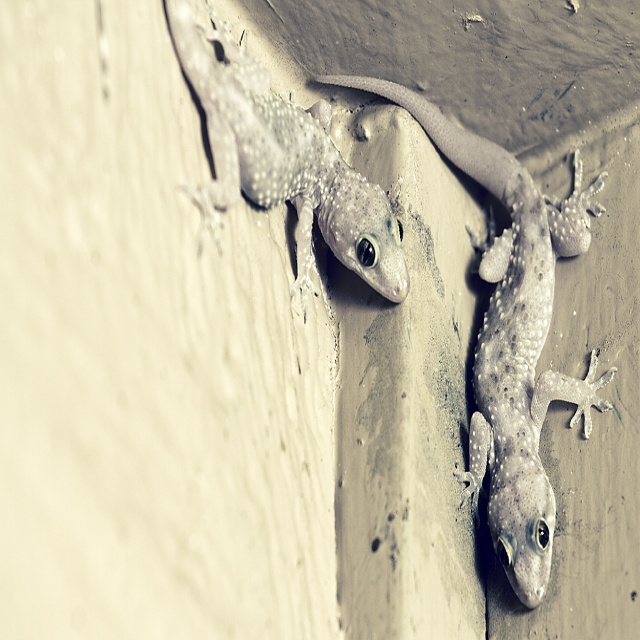Lizard: (314, 69, 617, 611), (155, 0, 405, 302)
